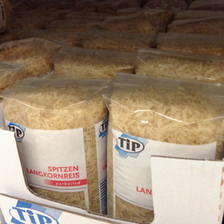rice: (103, 75, 223, 224), (1, 77, 110, 214)
